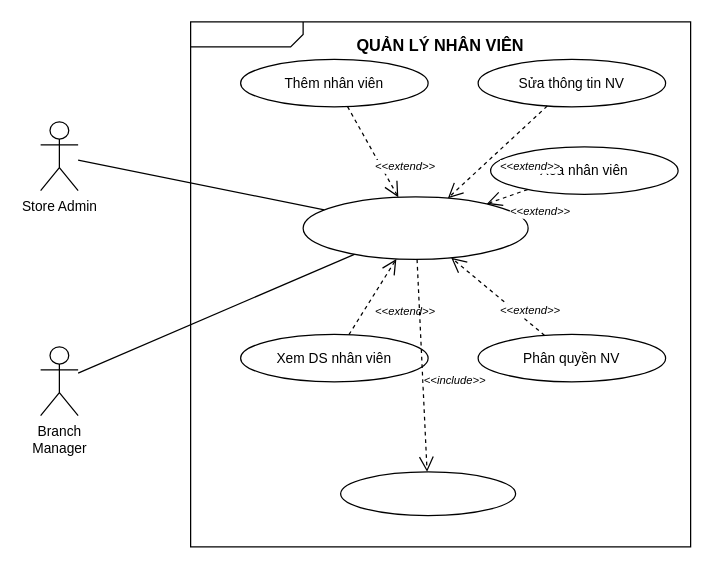
Image size: 713x569. Some labels were removed from this diagram. Each missing label, with the box of its shape:
Quản lý nhân viên (from Model): (302, 196, 528, 259)
Đăng nhập: (339, 471, 516, 516)
